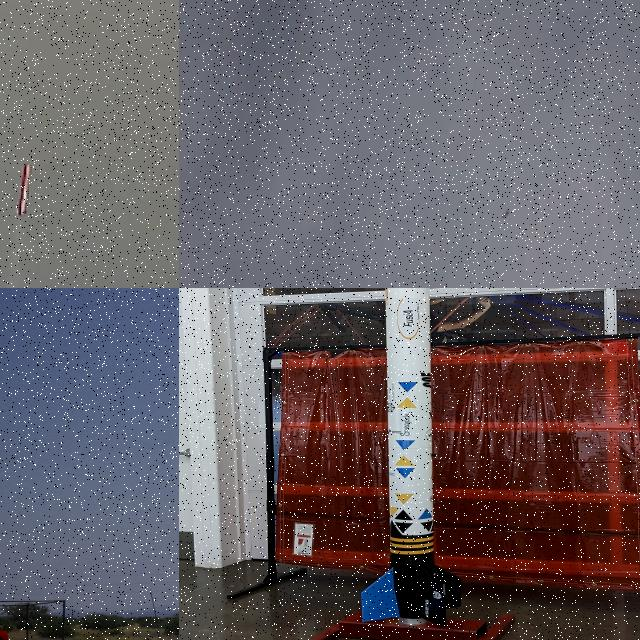Rocket: (361, 288, 461, 627), (17, 164, 32, 216), (502, 209, 509, 219)
